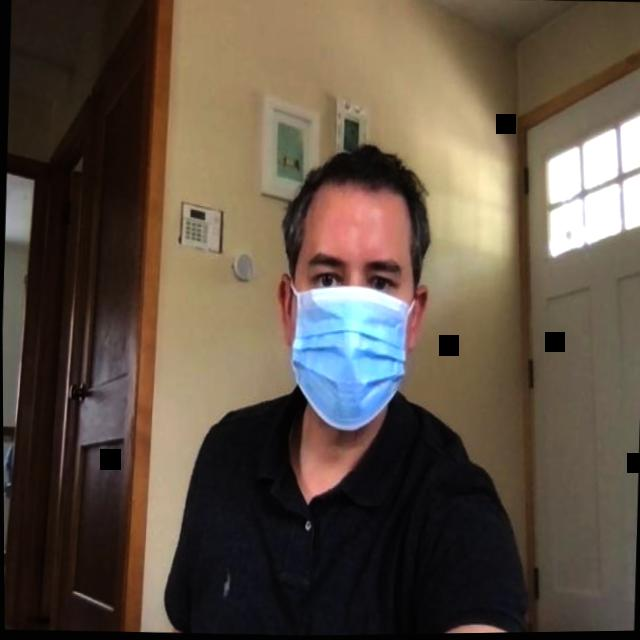Mask: (273, 141, 435, 436)
